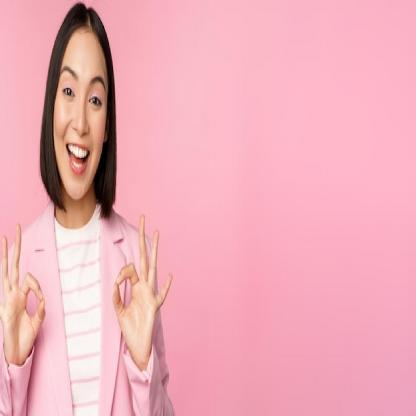ok: (111, 211, 174, 368), (0, 220, 46, 374)
